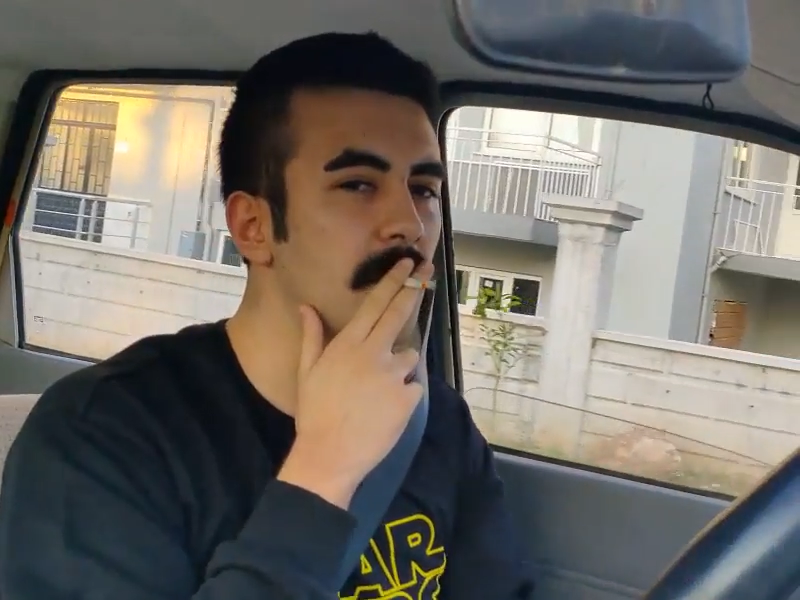sigara: (394, 272, 447, 294)
